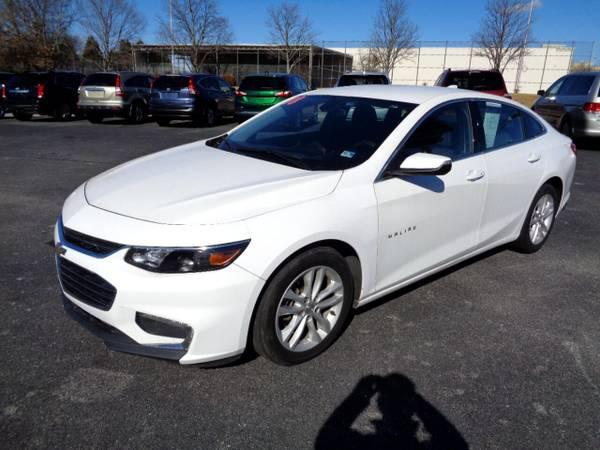Front_Bumper: (55, 206, 268, 362)
Front_Fender: (234, 169, 378, 304)
Front_Left_Door: (374, 153, 485, 295)
Front_Left_Window: (372, 99, 480, 182)
Front_Windshield: (207, 93, 417, 172)
Grille: (56, 251, 114, 314)
Hood: (60, 140, 347, 248)
Left_Headlight: (124, 240, 252, 276)
Rear_Fender: (544, 132, 574, 213)
Rear_Left_Door: (474, 138, 550, 256)
Rear_Left_Window: (470, 98, 551, 155)
Roof: (303, 84, 558, 181)
Wheel: (255, 246, 357, 368), (522, 190, 557, 256)
